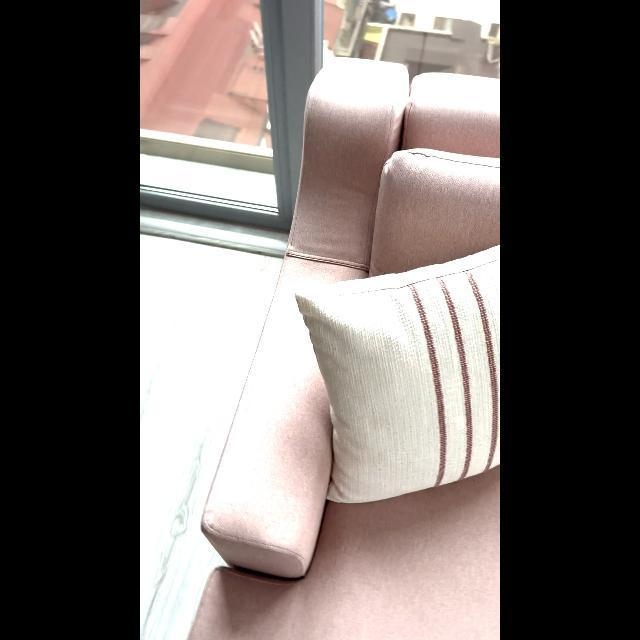throw pillow: (280, 231, 500, 515)
